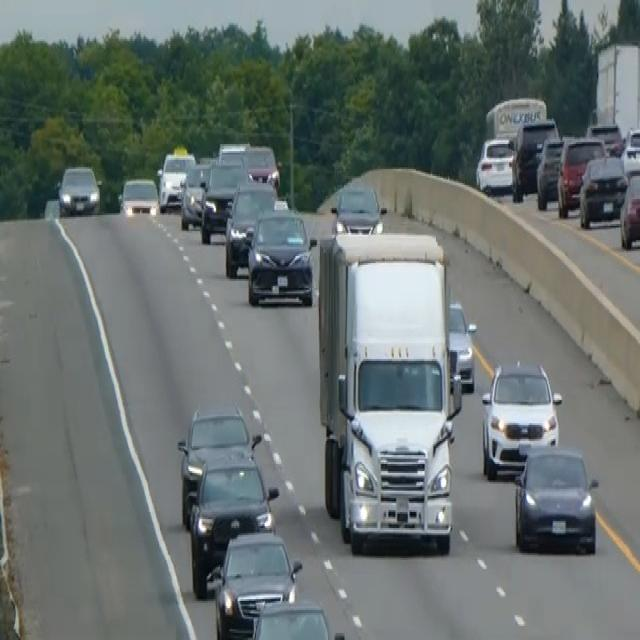car: (188, 444, 279, 598), (207, 528, 302, 638), (480, 357, 562, 480), (176, 402, 257, 526), (513, 442, 599, 554), (246, 205, 316, 308), (223, 178, 277, 277), (199, 158, 250, 244), (510, 115, 559, 201), (556, 133, 605, 217), (245, 598, 346, 638), (578, 153, 628, 227), (330, 180, 383, 234), (447, 299, 477, 391), (475, 133, 516, 194), (157, 148, 195, 210), (179, 158, 211, 230), (57, 164, 100, 215), (535, 135, 564, 208), (118, 174, 159, 219), (243, 142, 280, 190), (619, 172, 639, 249), (585, 121, 623, 156), (620, 124, 639, 176)
lorry: (313, 228, 462, 554)
